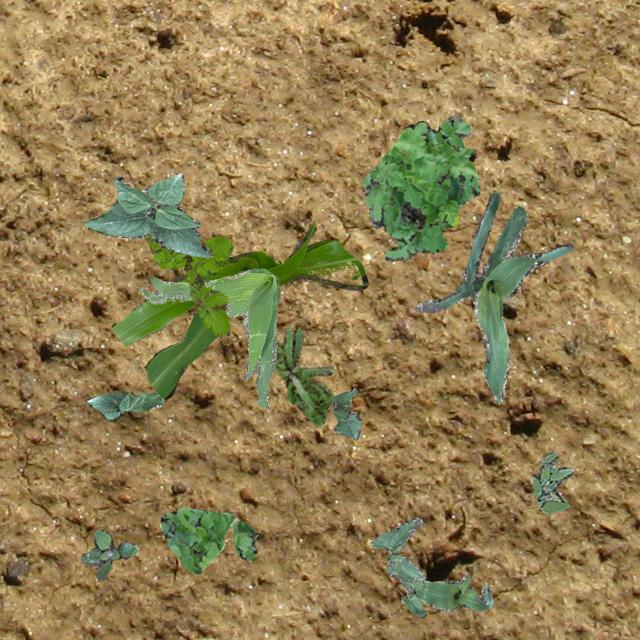crop: (110, 222, 367, 398), (414, 192, 572, 402), (82, 172, 212, 256), (370, 518, 424, 580), (413, 572, 492, 610), (86, 390, 162, 420), (330, 388, 360, 438), (400, 579, 424, 617)
weed: (138, 267, 278, 408), (362, 116, 478, 260), (142, 233, 232, 339), (160, 507, 260, 572), (274, 326, 332, 424), (80, 528, 136, 580), (530, 449, 572, 514)
